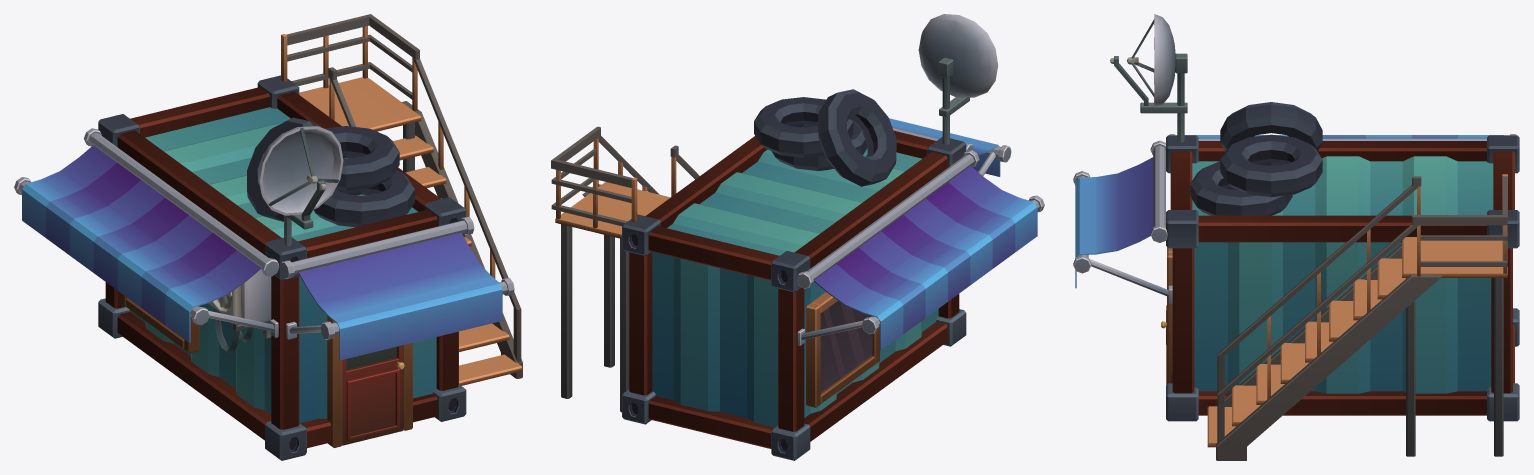
File: sp_prebuild_house_12.fbx
The picture shows the model from 3 angles, left to right: view 1: azimuth 30°, elevation 25°; view 2: azimuth 150°, elevation 25°; view 3: azimuth 270°, elevation 25°; orthographic projection. The views are drawn at different scales.
Parts seen in each view (by area): view 1: finb_house_12; view 2: finb_house_12; view 3: finb_house_12.
Boxes of the visible parts, x1,y1,x2,y2 form: finb_house_12: (14, 14, 522, 460); finb_house_12: (551, 14, 1044, 460); finb_house_12: (1073, 14, 1519, 460).
Size of the model in its own units: 555 by 503 by 630.
